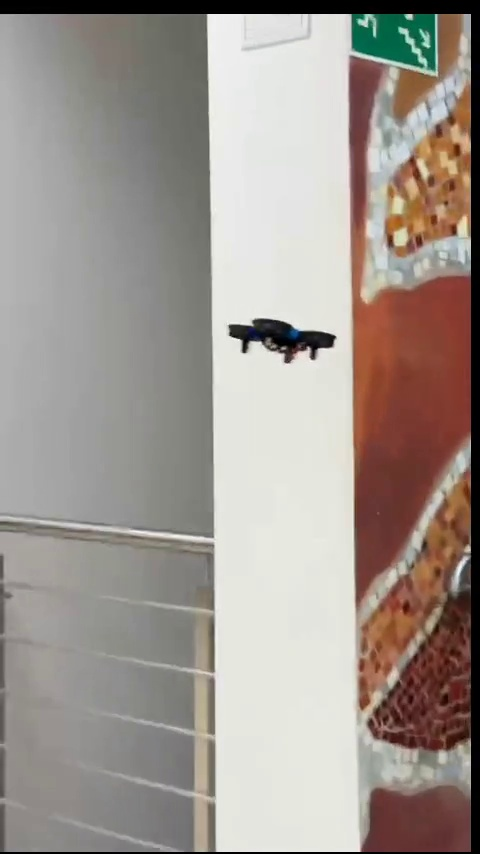drone: (230, 316, 337, 370)
